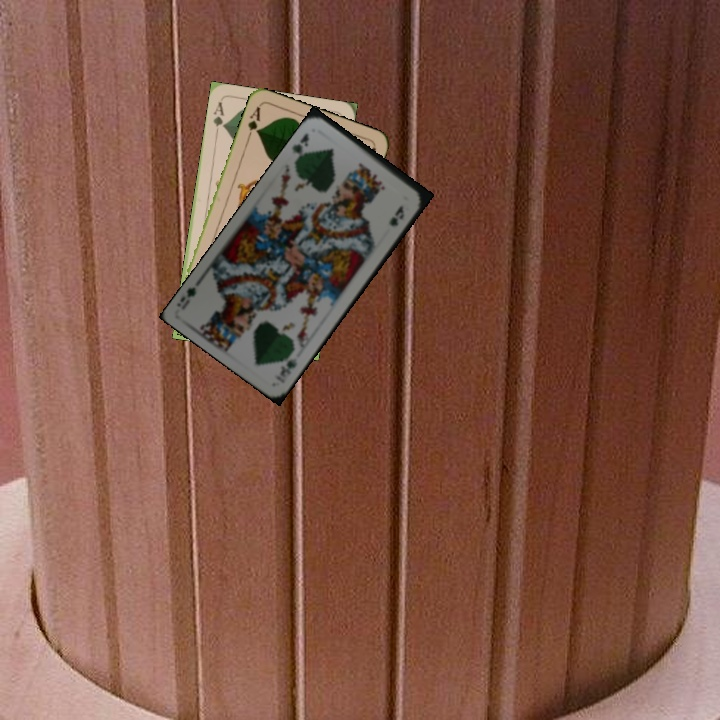GA: (243, 102, 263, 142), (209, 98, 228, 138)
GK: (288, 129, 312, 159), (276, 354, 300, 380)
